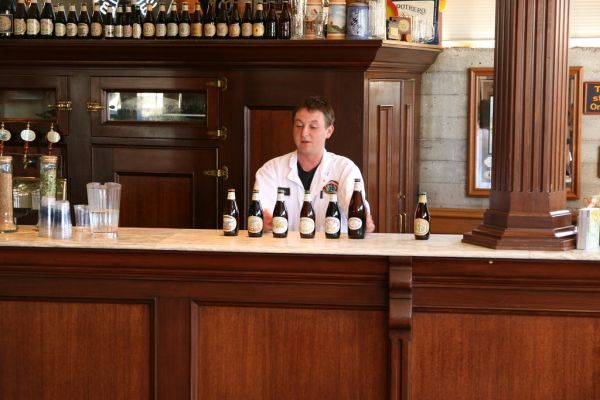unknown_bottle: (347, 179, 367, 240), (324, 187, 341, 239), (247, 188, 264, 238), (414, 193, 431, 241), (299, 191, 316, 239), (272, 188, 288, 238), (223, 190, 240, 237), (214, 1, 228, 39), (166, 1, 179, 39), (252, 3, 265, 39), (191, 3, 204, 39), (143, 5, 156, 40)
